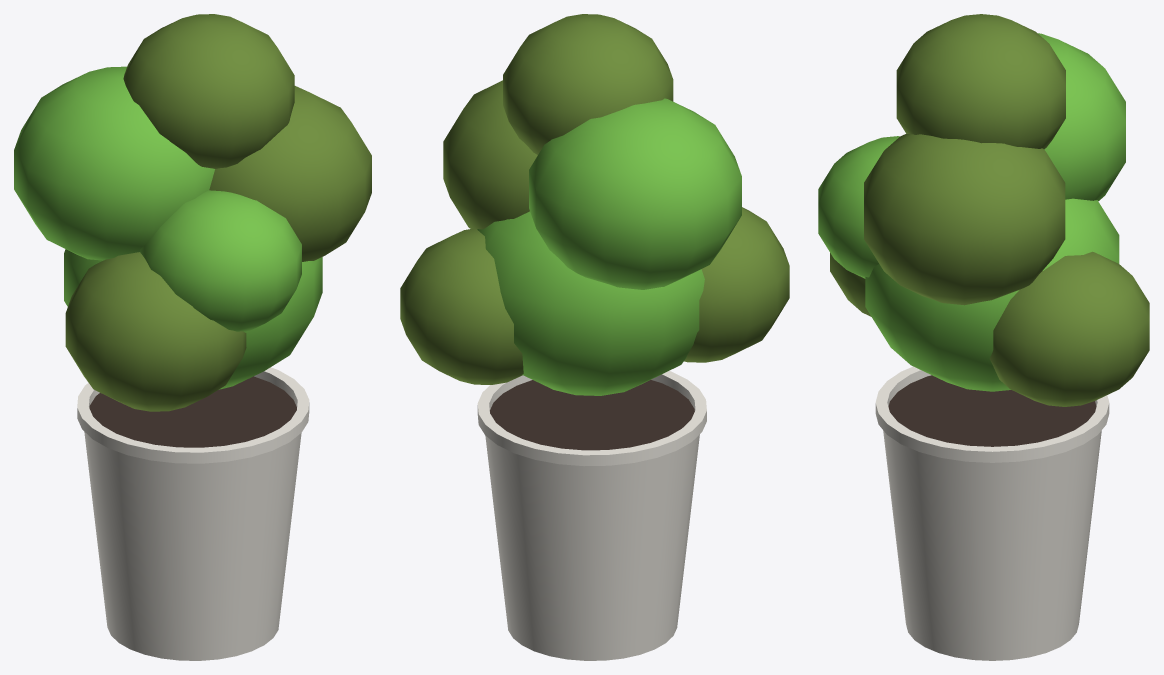
Rendered from SM_PlantBush.glb.
The picture shows the model from 3 angles, left to right: view 1: azimuth 30°, elevation 25°; view 2: azimuth 150°, elevation 25°; view 3: azimuth 270°, elevation 25°; orthographic projection.
Parts seen in each view (by area): view 1: SM_PlantBush; view 2: SM_PlantBush; view 3: SM_PlantBush.
Boxes of the visible parts, x1=… form: SM_PlantBush: x1=14, y1=14, x2=371, y2=660; SM_PlantBush: x1=400, y1=14, x2=789, y2=660; SM_PlantBush: x1=818, y1=14, x2=1149, y2=660.
Size of the model in its own units: 0.631 by 1.2 by 0.5947.
1 material, 1 textured.
